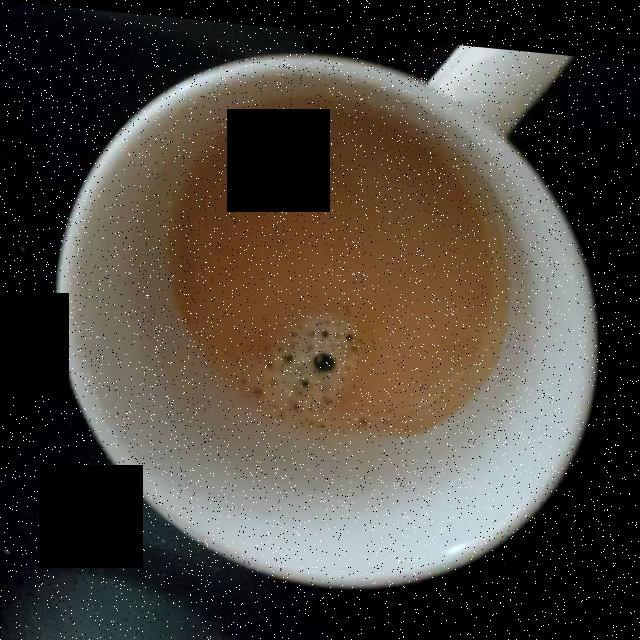coffee: (166, 85, 504, 427)
